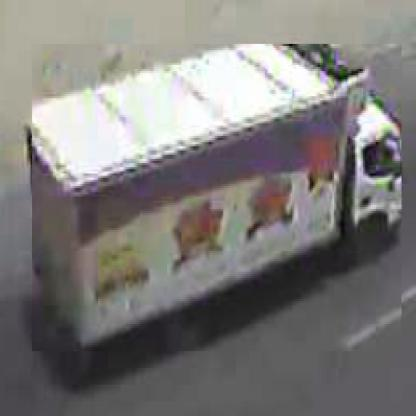truck: (32, 45, 403, 354)
